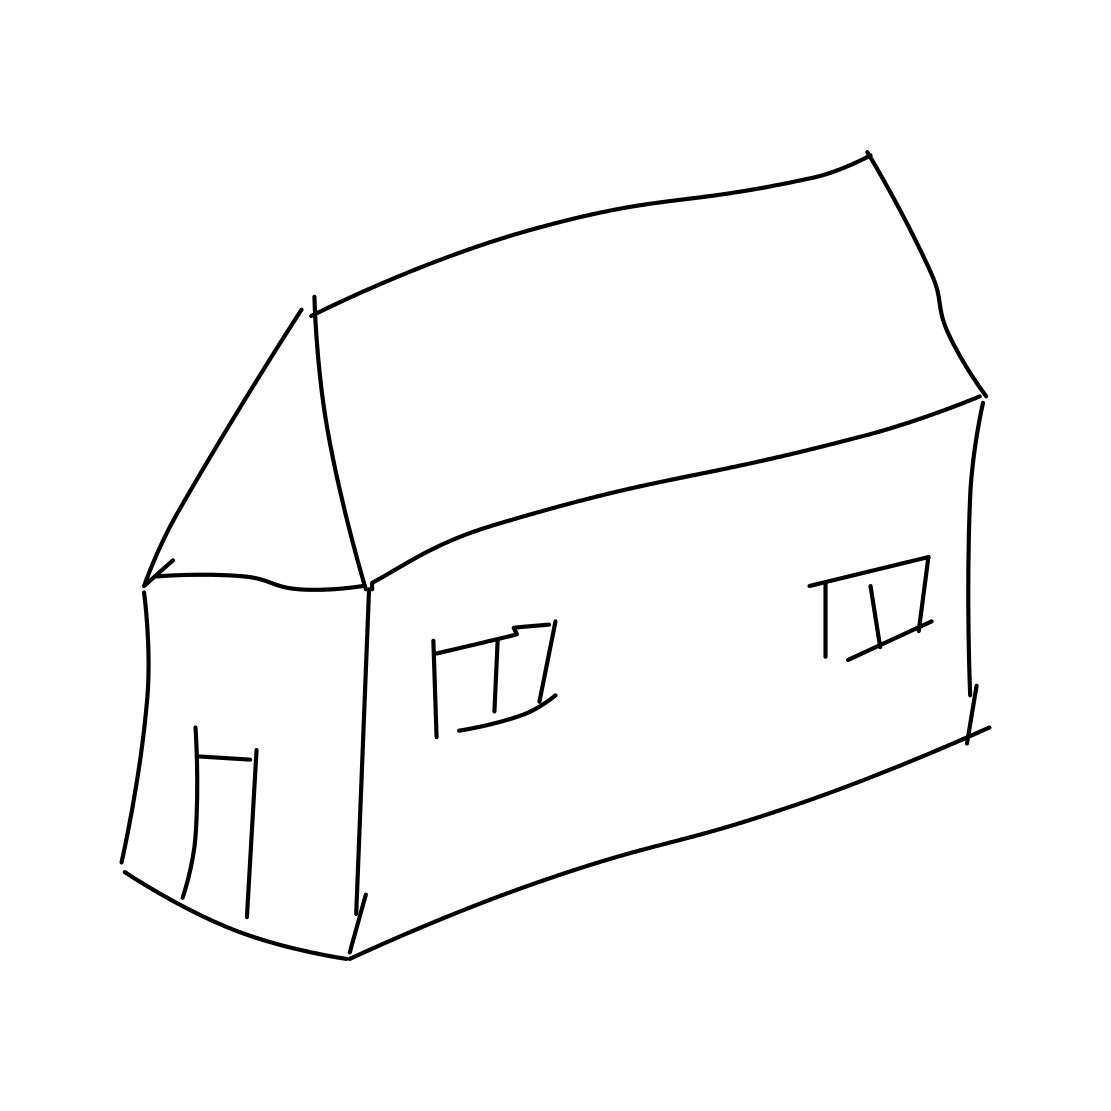House: (71, 124, 1034, 970)
